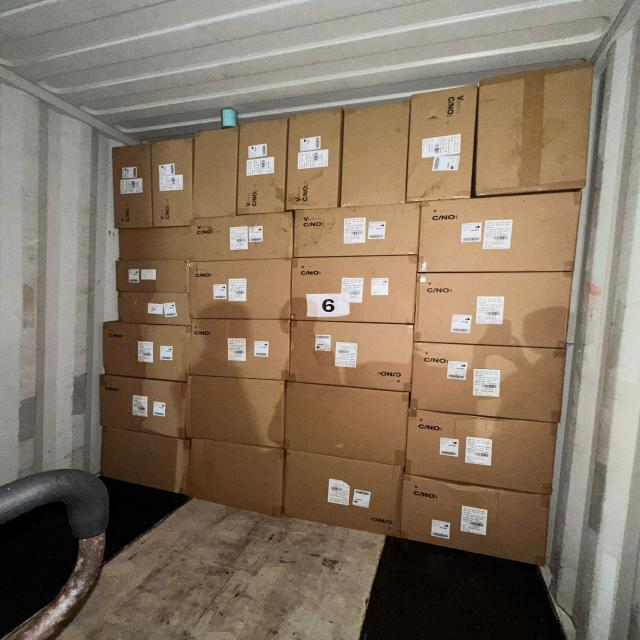Carton: (479, 65, 598, 197), (398, 474, 552, 569), (400, 406, 554, 494), (404, 340, 561, 426), (420, 198, 584, 278), (413, 270, 571, 350), (285, 380, 410, 466), (281, 446, 399, 533), (291, 322, 418, 394), (293, 256, 420, 325), (406, 86, 474, 202), (187, 440, 286, 517), (339, 98, 406, 207), (187, 376, 288, 448), (295, 205, 423, 256), (187, 258, 291, 320), (189, 318, 291, 380), (97, 376, 187, 442), (101, 428, 180, 498), (286, 112, 340, 213), (102, 323, 192, 382), (189, 210, 295, 260), (237, 117, 284, 213), (195, 128, 239, 216), (152, 136, 192, 225), (113, 144, 154, 230), (115, 224, 192, 263), (114, 292, 188, 324), (115, 262, 187, 294)
